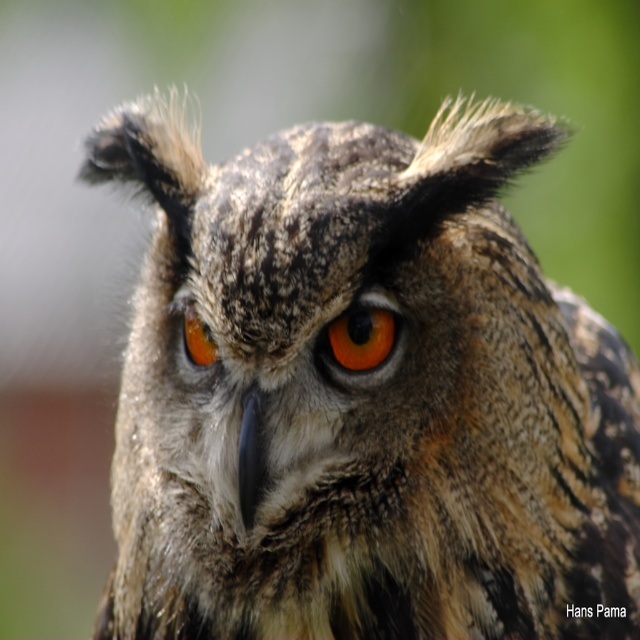Owl: (73, 84, 640, 639)
